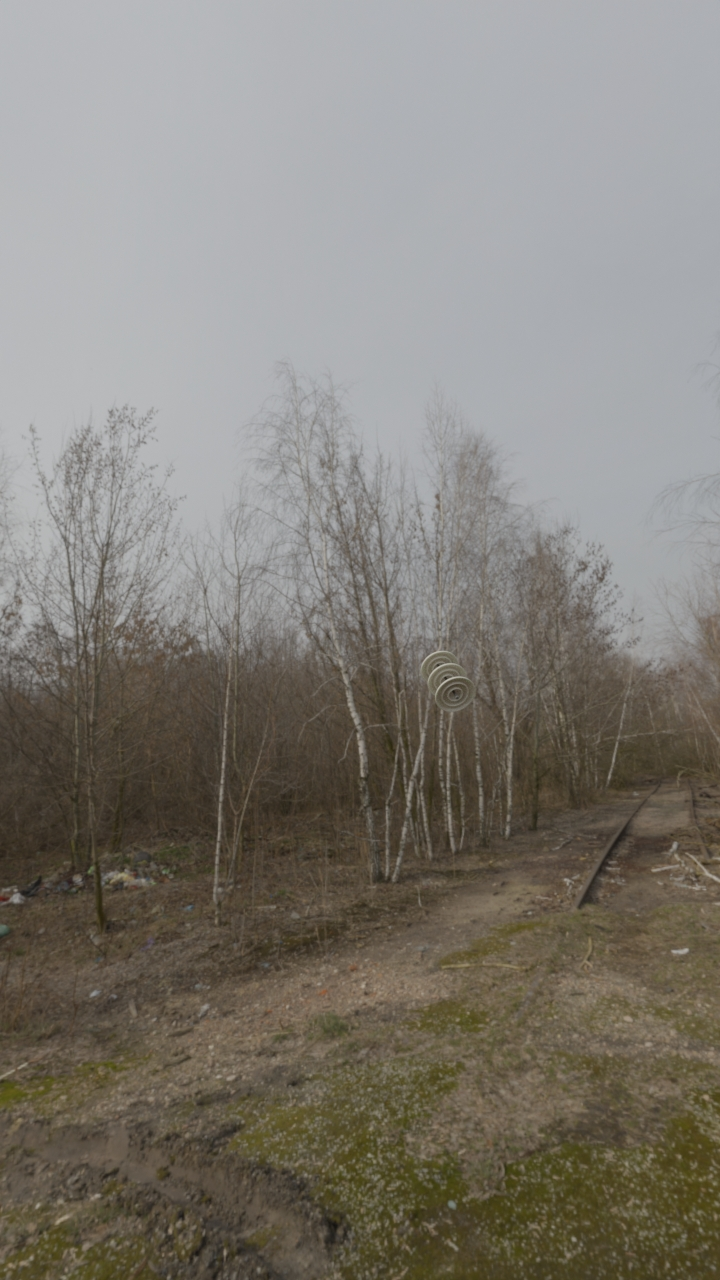ceramicinsulators: (420, 651, 476, 713)
